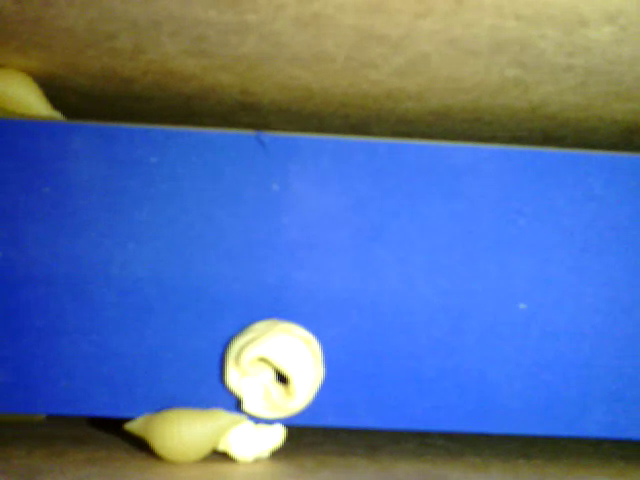shell: (121, 405, 253, 461), (1, 65, 69, 119)
tortellini: (222, 314, 329, 415)
